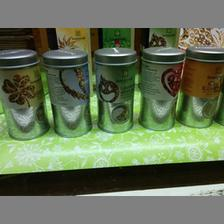Gewuerze: (42, 46, 92, 138), (0, 48, 48, 140), (175, 46, 223, 130), (138, 46, 186, 130), (94, 46, 136, 132)
